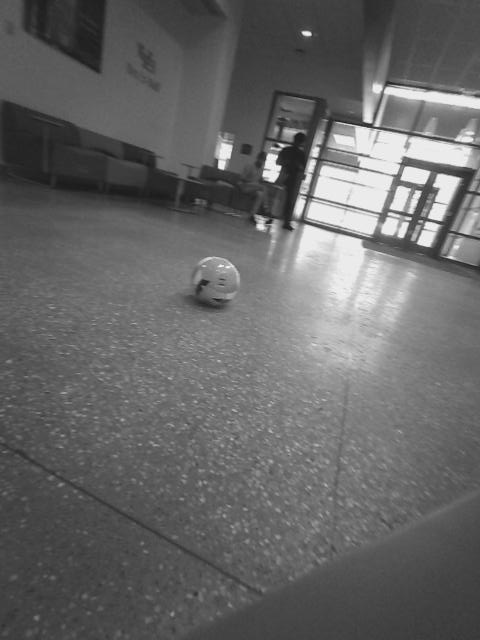ball: (263, 201, 307, 249)
